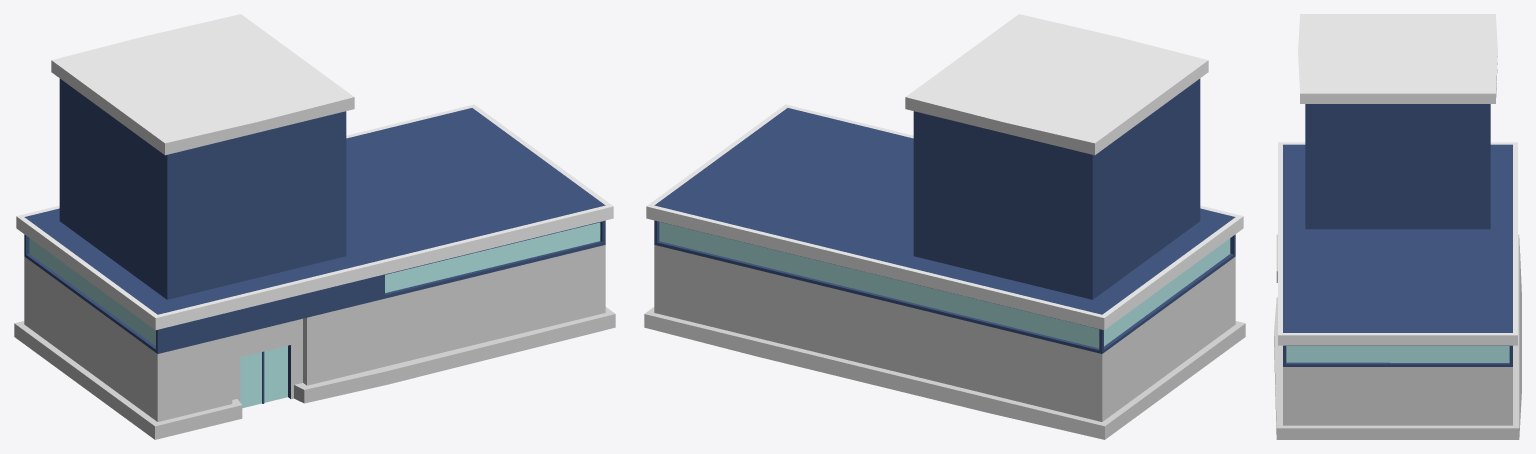
The model's file is PoliceStation.fbx.
The picture shows the model from 3 angles, left to right: view 1: azimuth 30°, elevation 25°; view 2: azimuth 150°, elevation 25°; view 3: azimuth 270°, elevation 25°; orthographic projection. The views are drawn at different scales.
Parts seen in each view (by area): view 1: PoliceStation; view 2: PoliceStation; view 3: PoliceStation.
Boxes of the visible parts, x1,y1,x2,y2 form: PoliceStation: (14,14,615,439); PoliceStation: (644,14,1245,439); PoliceStation: (1274,14,1521,439).
Size of the model in its own units: 3187 by 1858 by 1724.
